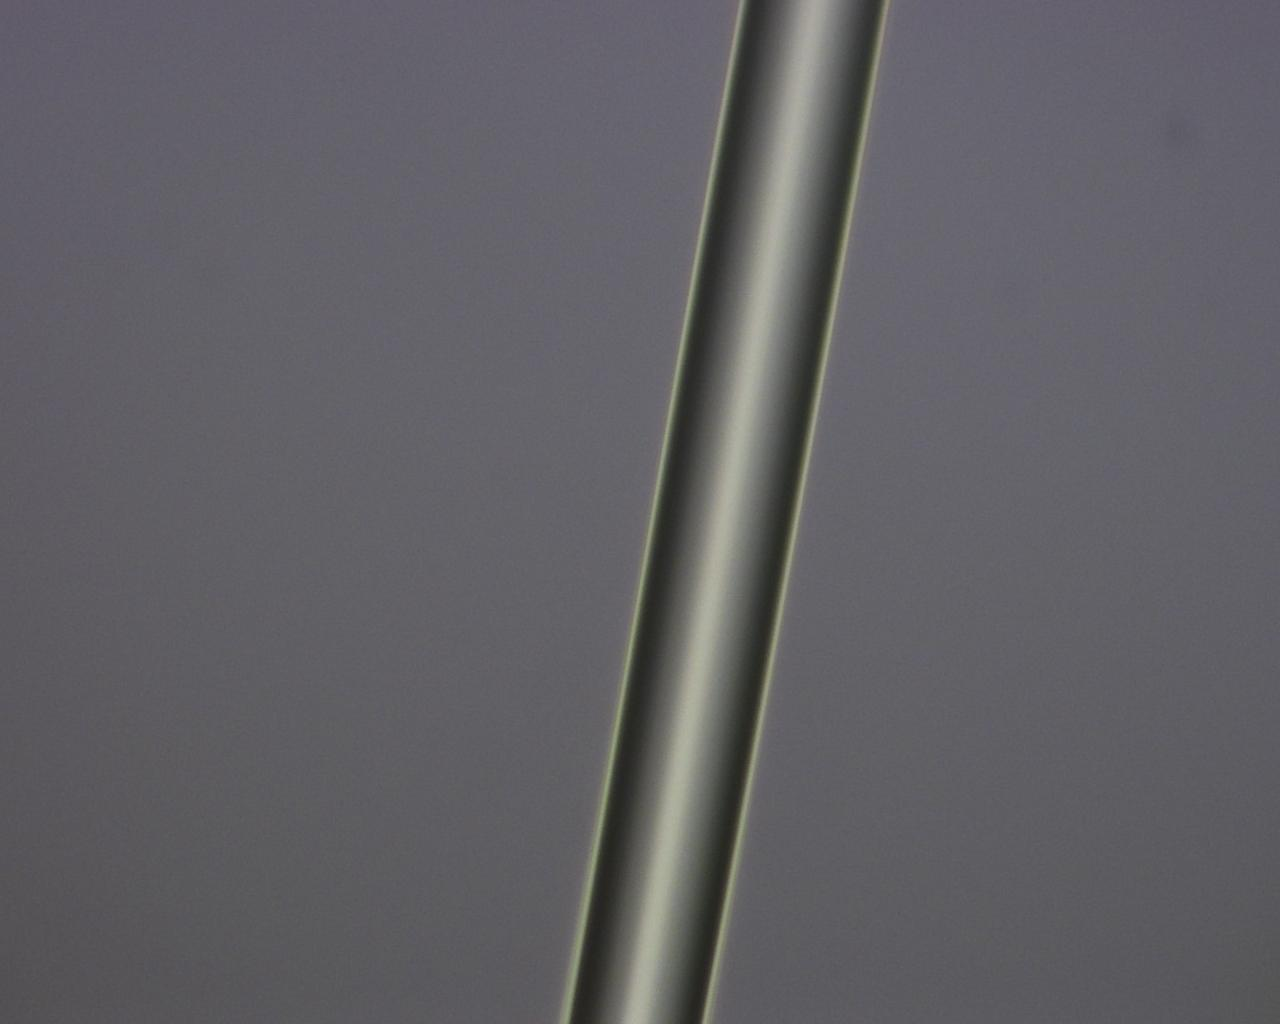fiber: (469, 0, 772, 1024)
